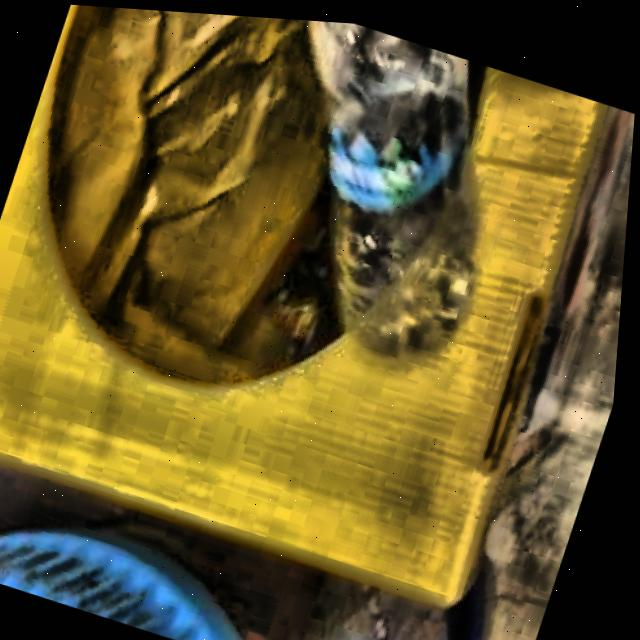plastic: (306, 16, 490, 349)
